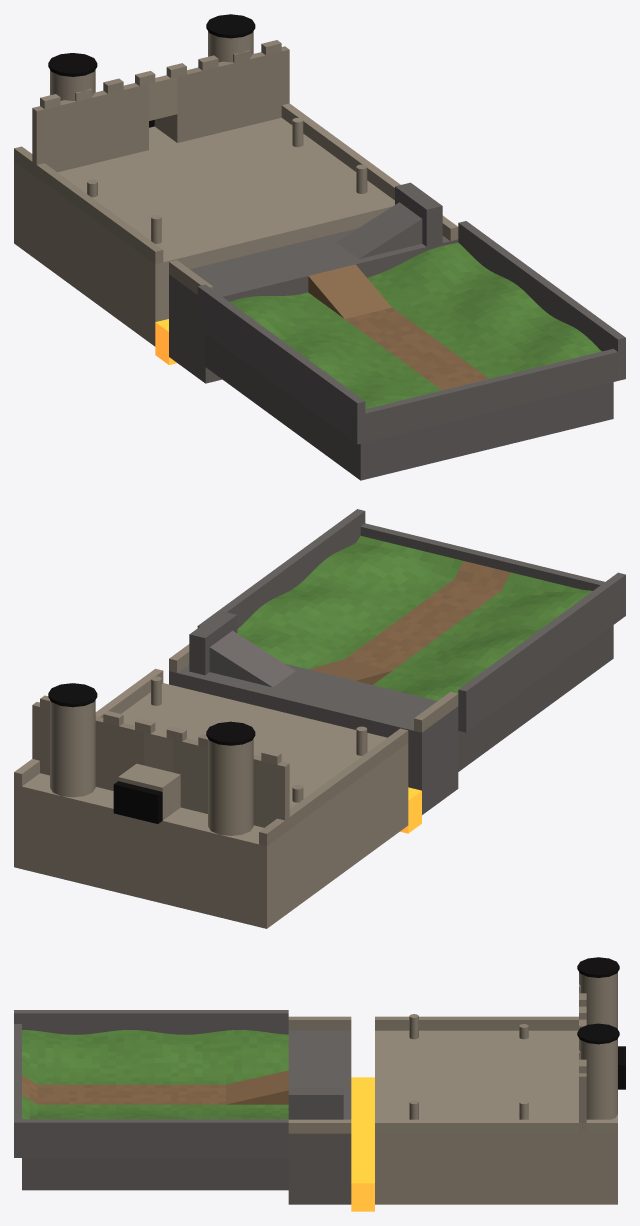
The model's file is outdoor.glb.
The picture shows the model from 3 angles, top to bottom: view 1: azimuth 30°, elevation 25°; view 2: azimuth 150°, elevation 25°; view 3: azimuth 270°, elevation 25°; orthographic projection. The views are drawn at different scales.
Visible parts, largest first — view 1: Meadow, Courtyard, Boundary, Facade, Upper Ledge, Courtyard Walls, Rock Slope, Towers, Ramp; view 2: Courtyard, Meadow, Boundary, Upper Ledge, Facade, Towers, Courtyard Walls, Rock Slope, Gatehouse, Ramp, Lava; view 3: Courtyard, Meadow, Boundary, Courtyard Walls, Upper Ledge, Towers, Lava, Rock Slope, Ramp, Facade.
Boxes of the visible parts, bbox=[...] form: Meadow: bbox=[205, 242, 613, 480]; Courtyard: bbox=[14, 117, 394, 346]; Boundary: bbox=[197, 221, 625, 444]; Facade: bbox=[32, 40, 289, 175]; Upper Ledge: bbox=[169, 228, 458, 383]; Courtyard Walls: bbox=[14, 103, 458, 294]; Rock Slope: bbox=[336, 182, 442, 258]; Towers: bbox=[48, 14, 255, 100]; Ramp: bbox=[308, 264, 391, 318]; Courtyard: bbox=[14, 683, 408, 928]; Meadow: bbox=[237, 536, 613, 771]; Boundary: bbox=[197, 509, 625, 732]; Upper Ledge: bbox=[169, 664, 458, 814]; Facade: bbox=[32, 695, 289, 832]; Towers: bbox=[48, 683, 255, 835]; Courtyard Walls: bbox=[14, 644, 458, 846]; Rock Slope: bbox=[189, 611, 295, 687]; Gatehouse: bbox=[113, 763, 180, 823]; Ramp: bbox=[309, 659, 391, 684]; Lava: bbox=[400, 787, 421, 833]; Courtyard: bbox=[375, 1030, 617, 1204]; Meadow: bbox=[22, 1030, 288, 1190]; Boundary: bbox=[14, 1010, 288, 1157]; Courtyard Walls: bbox=[288, 1014, 617, 1133]; Upper Ledge: bbox=[288, 1030, 351, 1204]; Towers: bbox=[577, 957, 619, 1119]; Lava: bbox=[351, 1077, 374, 1211]; Rock Slope: bbox=[288, 1088, 343, 1119]; Ramp: bbox=[226, 1070, 288, 1104]; Facade: bbox=[579, 984, 586, 1133].
Size of the model in its own units: 34 by 22.4 by 78.
